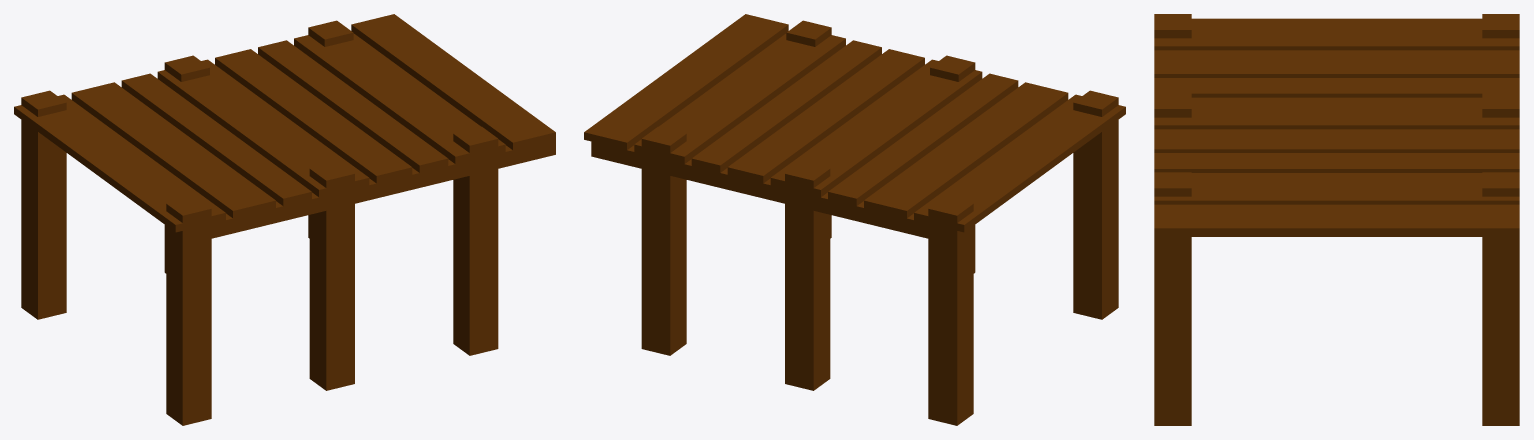
The model's file is embarcadero.obj.
3 views of the same model, side by side, from view 1: azimuth 30°, elevation 25°; view 2: azimuth 150°, elevation 25°; view 3: azimuth 270°, elevation 25° (orthographic). The views are drawn at different scales.
Size of the model in its own units: 5.3 by 2.8 by 3.9.
1 material, 1 textured.
